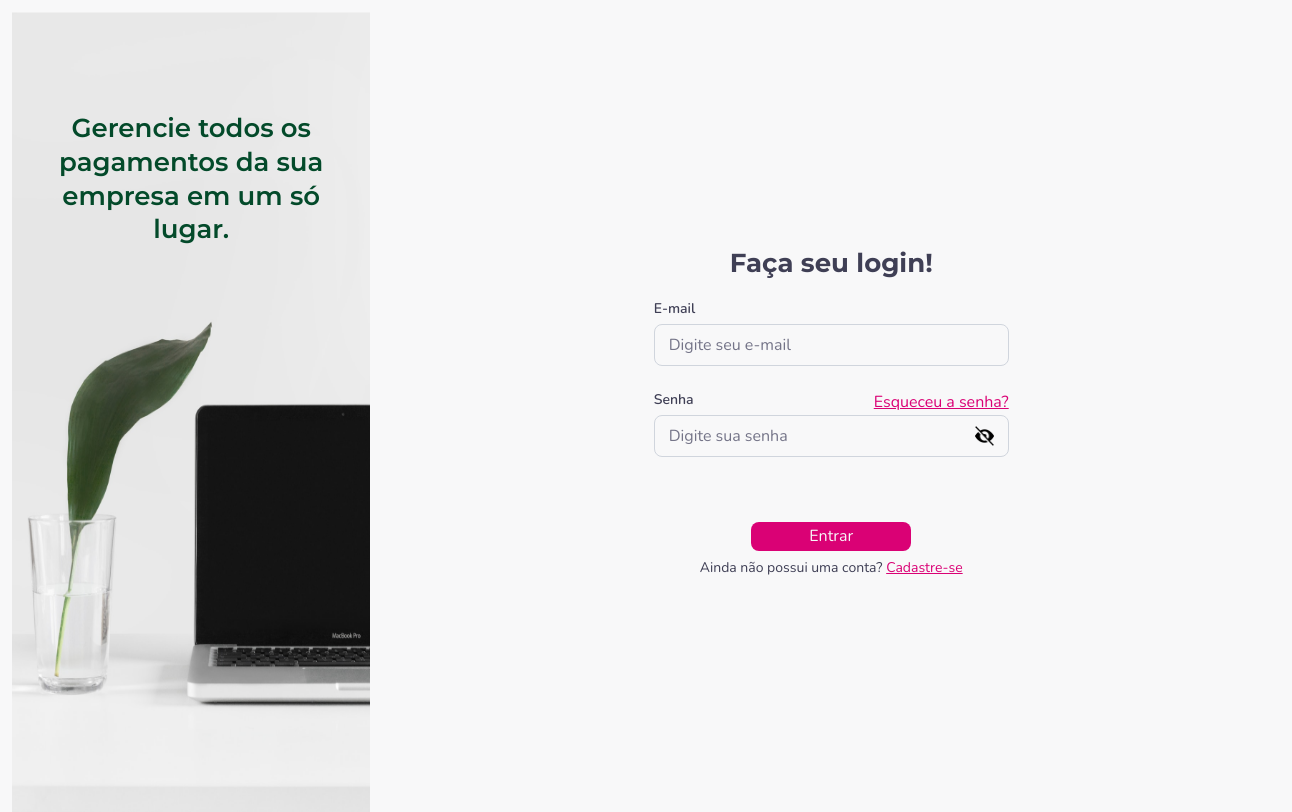
Test case: App › should go to sign up page
Click the link to "/signup": click(925, 568) x1=886 y1=558 x2=963 y2=577
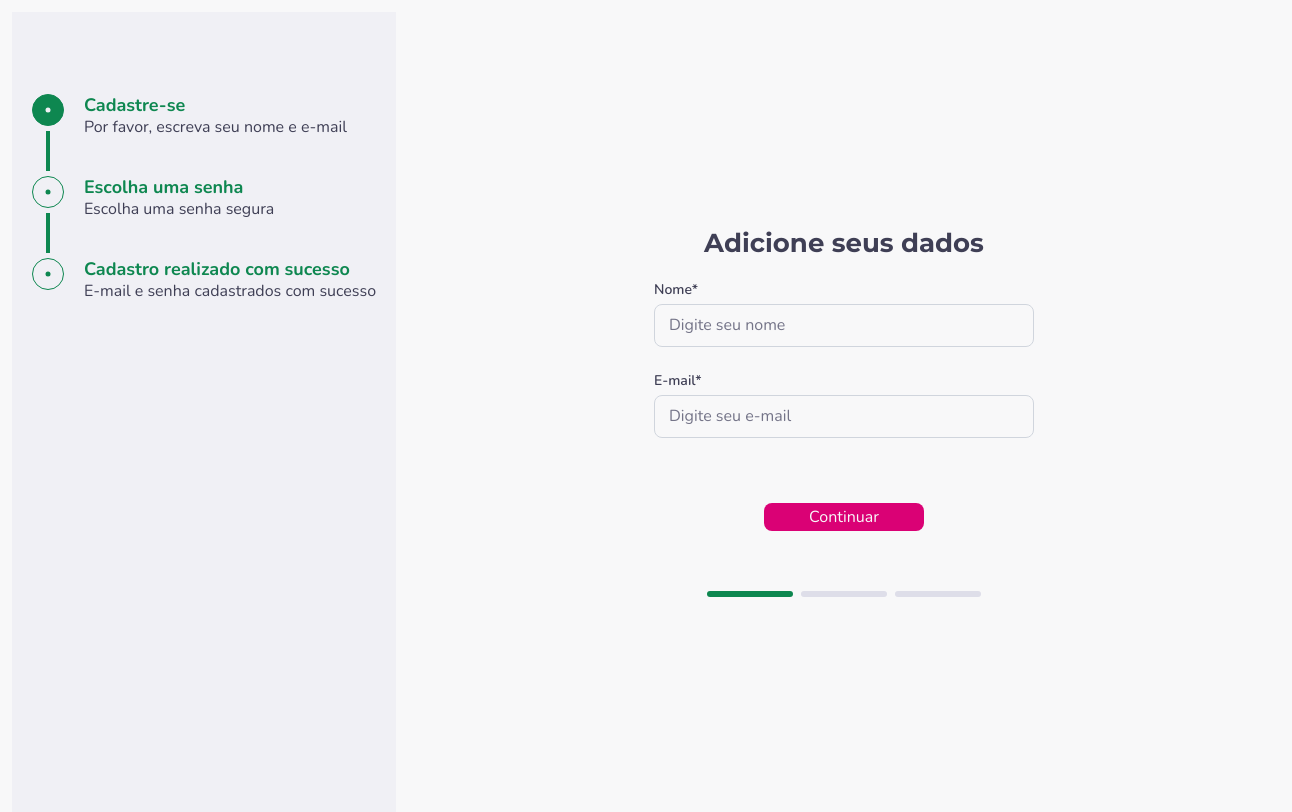
Now the heading "Adicione seus dados" is shown, box x1=704 y1=227 x2=984 y2=260
